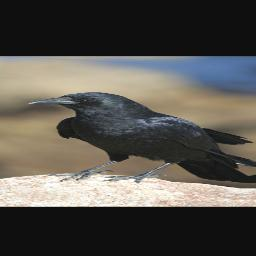Crow: (0, 88, 256, 192)
